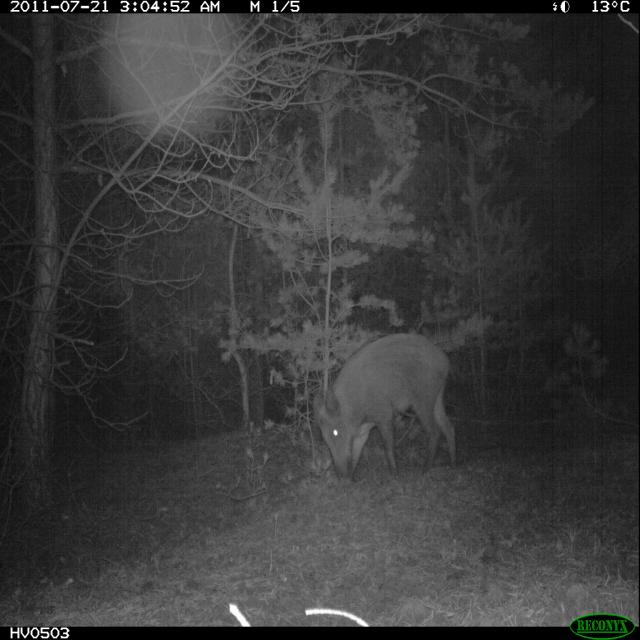boar: (288, 313, 486, 484)
